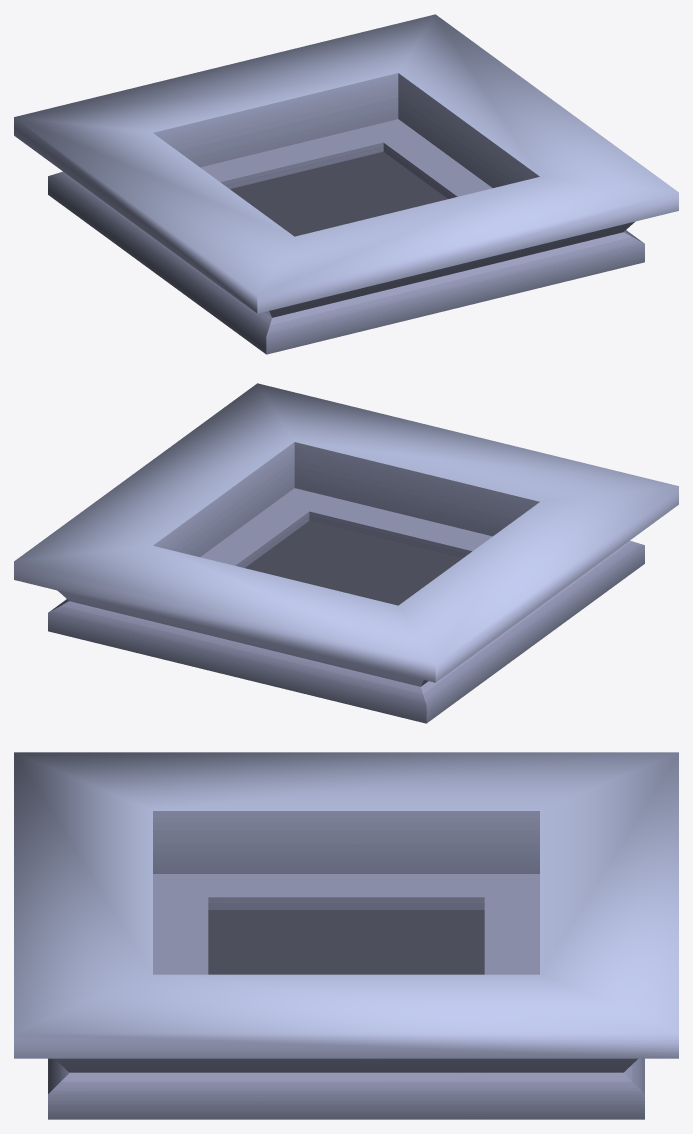
The model's file is roof-flat-square.glb.
3 renders of one model, top to bottom at view 1: azimuth 30°, elevation 25°; view 2: azimuth 150°, elevation 25°; view 3: azimuth 270°, elevation 25°, orthographic. The views are drawn at different scales.
Parts seen in each view (by area): view 1: roof-flat-square; view 2: roof-flat-square; view 3: roof-flat-square.
Boxes of the visible parts, left/top/right/bottom form: roof-flat-square: left=14, top=14, right=678, bottom=354; roof-flat-square: left=14, top=383, right=678, bottom=723; roof-flat-square: left=14, top=752, right=678, bottom=1119.
Size of the model in its own units: 2.39 by 0.3999 by 2.39.
1 material, 1 textured.
